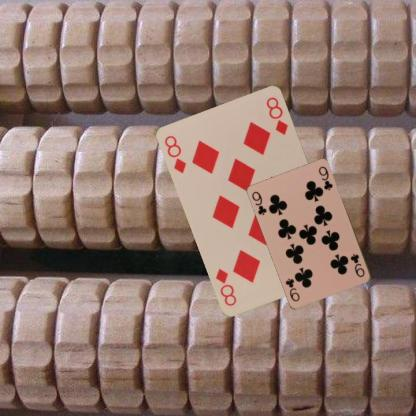8d: (162, 133, 188, 175)
9c: (250, 189, 268, 217), (348, 251, 366, 278)
